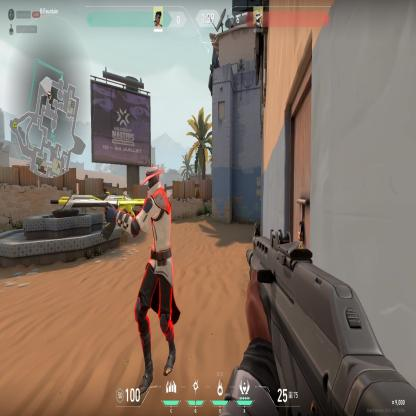enemy: (129, 164, 180, 403)
